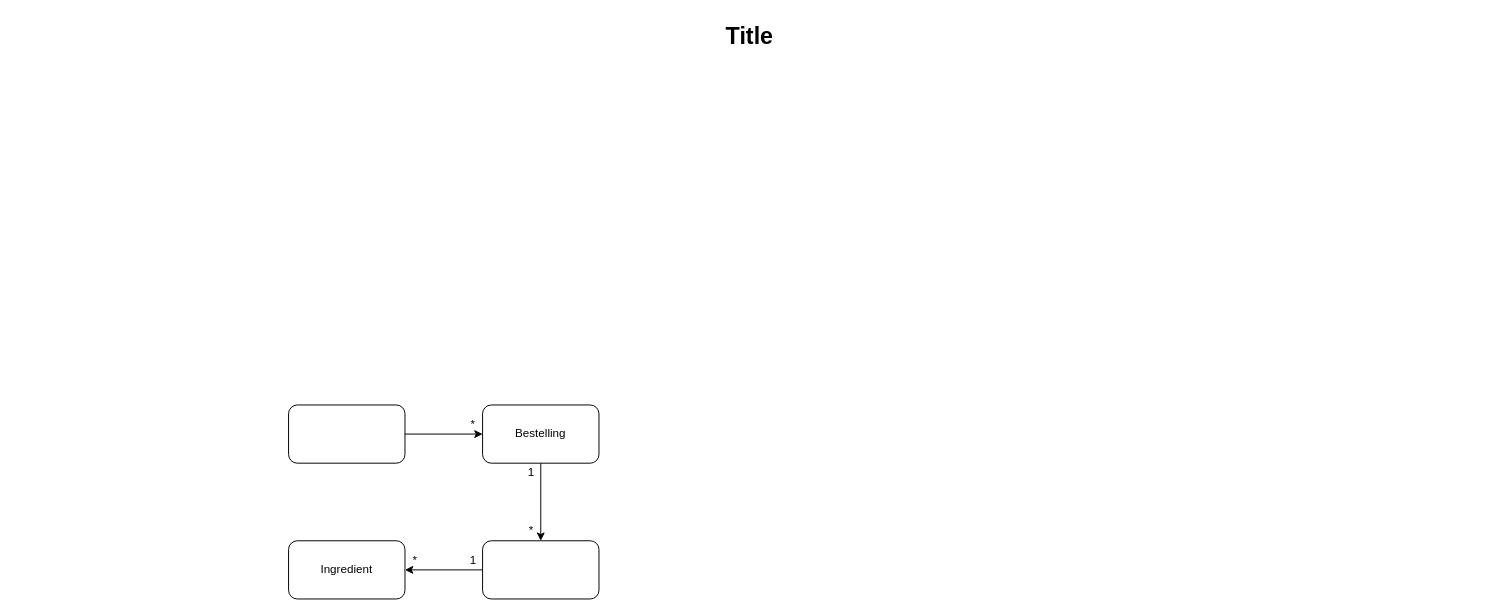
The diagram is 1498 pixels wide and 616 high, and some of its shapes have lost their labels. The shapes that lost their labels are listed below. From the top down, each one's centre as x and y in pixels, then its label:
the point at 346,433: Klant
the point at 540,569: Pizza
